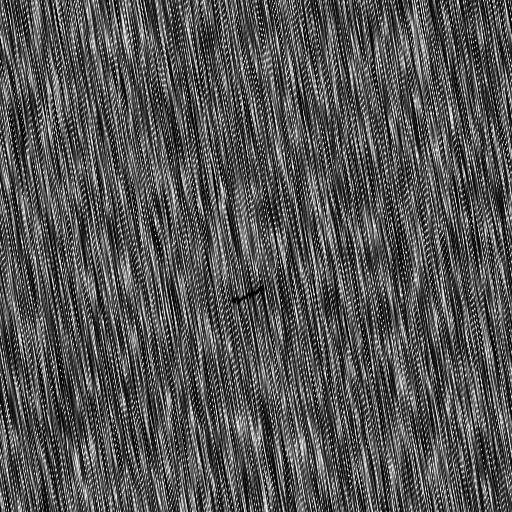DefectTypeC: (233, 284, 268, 305)
